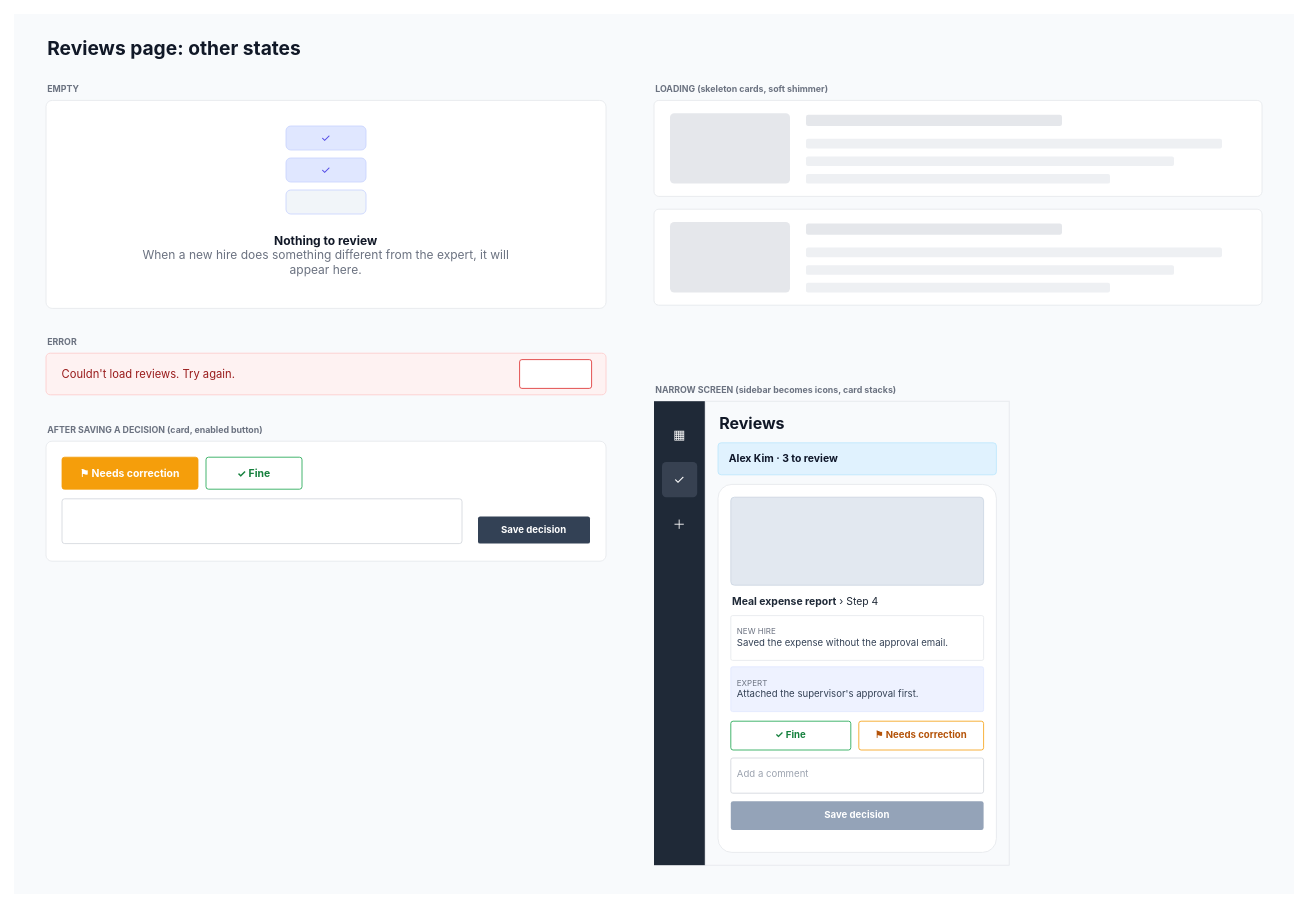
This 1307x907 diagram has some shape labels left out. Here are the shapes that lost their labels. From the top down, the centre of each, then its label:
At [555,373]: "Retry".
At [261,521]: "Attach the approval before saving, even for small meals.".
At [857,540]: "APP SCREEN 03:42".
